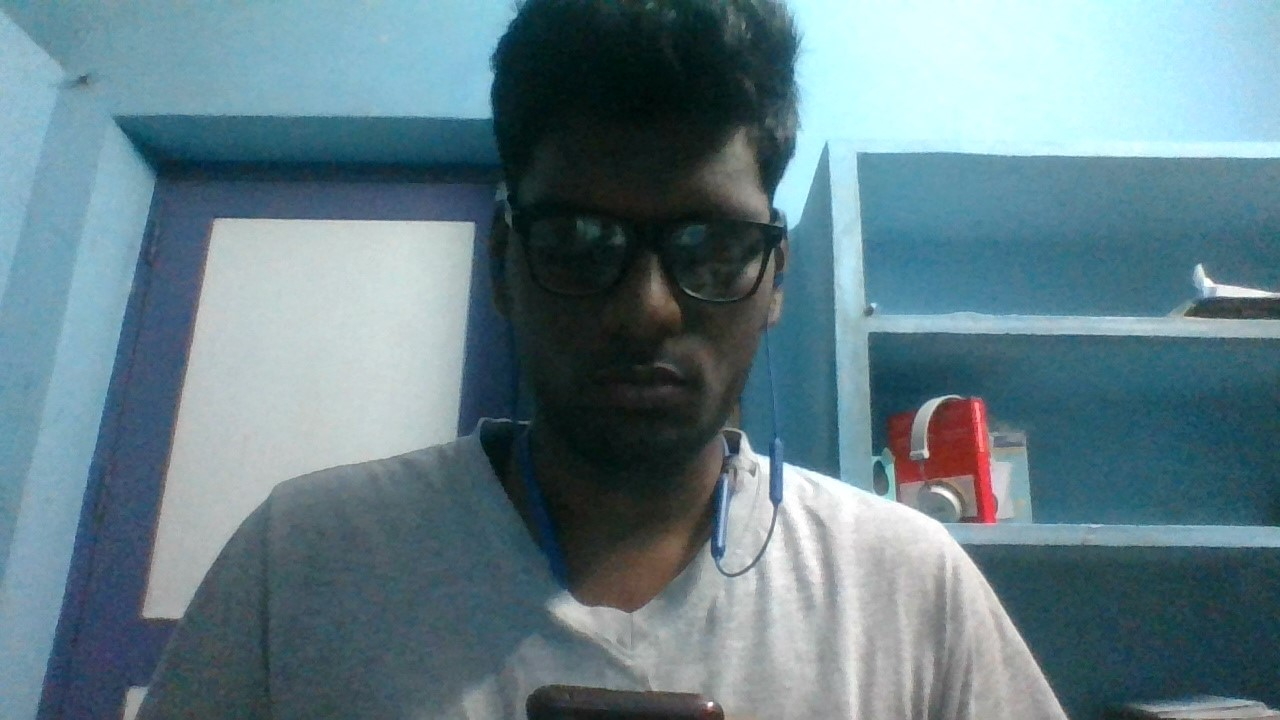mobile phone: (504, 665, 740, 720)
person: (116, 1, 1076, 720)
